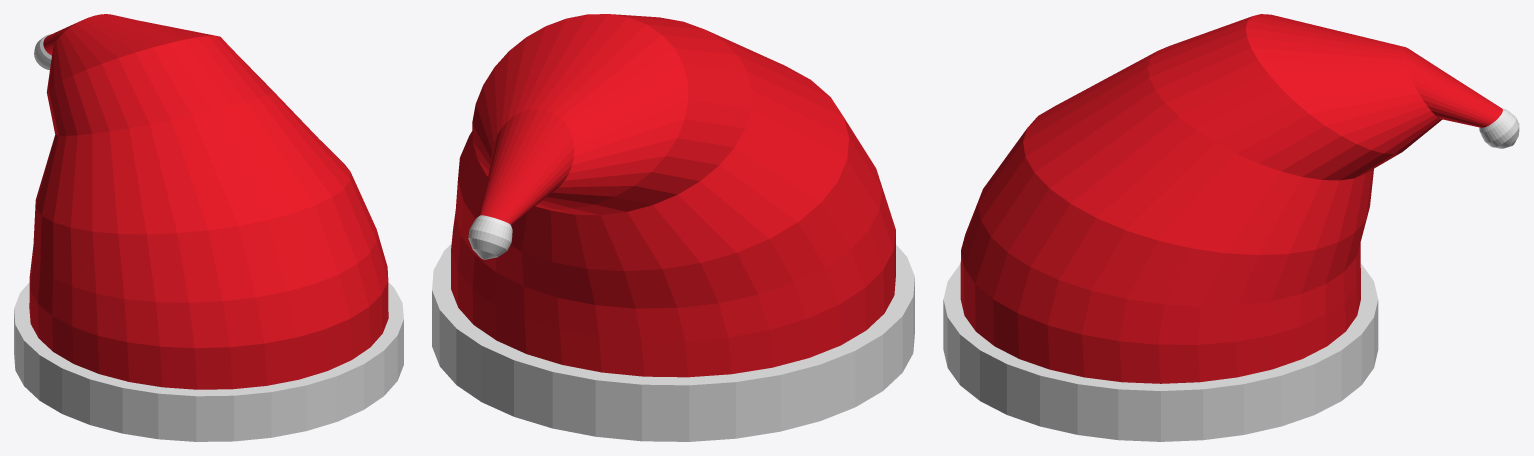
The model's file is christmas hat.fbx.
3 views of the same model, side by side, from view 1: azimuth 30°, elevation 25°; view 2: azimuth 150°, elevation 25°; view 3: azimuth 270°, elevation 25° (orthographic). The views are drawn at different scales.
Visible parts, largest first — view 1: Cylinder; view 2: Cylinder; view 3: Cylinder.
Boxes of the visible parts, box(x1,y1,x2,y2) form: Cylinder: box(14, 14, 403, 441); Cylinder: box(432, 14, 914, 441); Cylinder: box(943, 14, 1519, 441).
Size of the model in its own units: 200 by 163 by 265.
